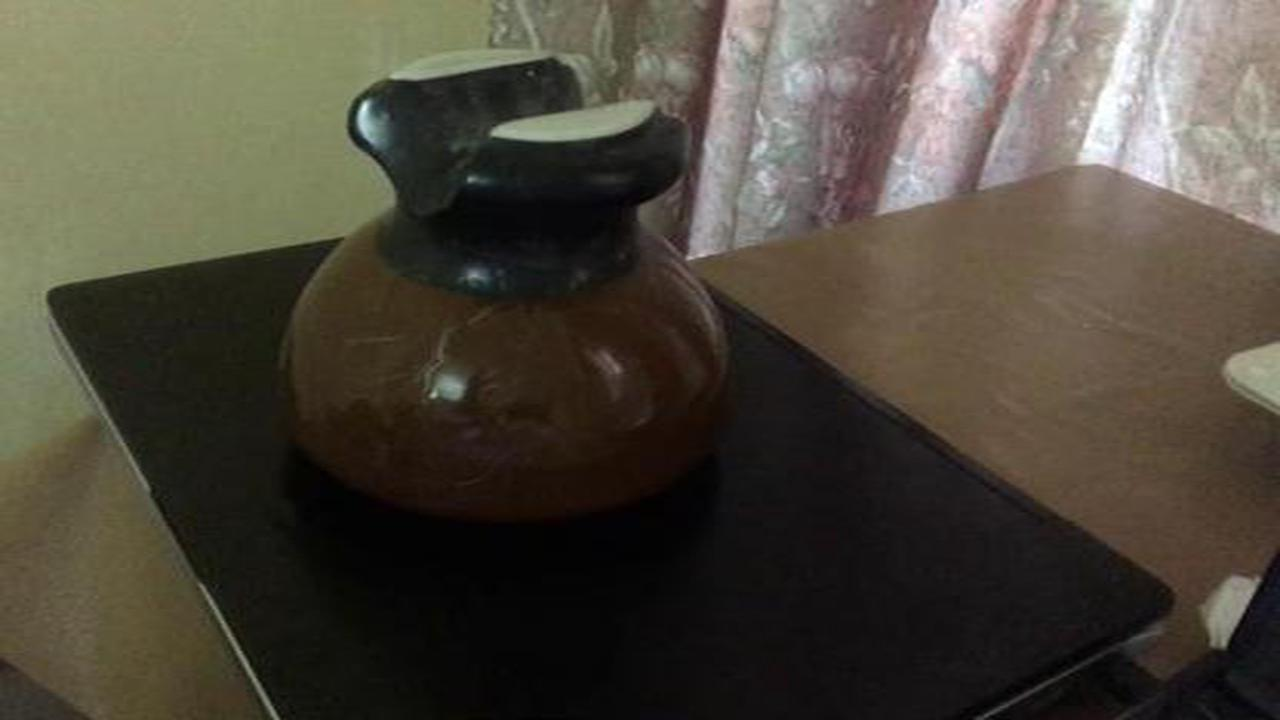insulator_pin: (264, 39, 754, 539)
